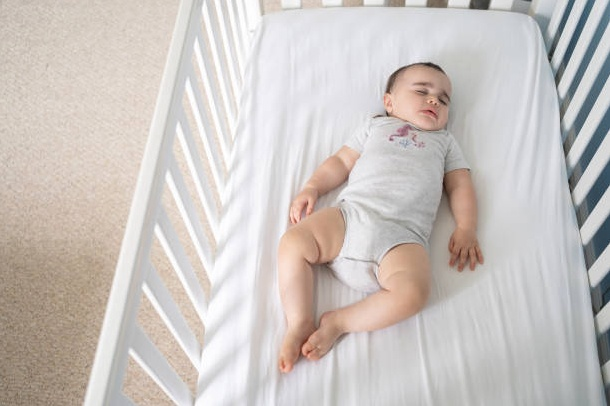baby: (278, 63, 482, 372)
crib: (85, 0, 609, 404)
